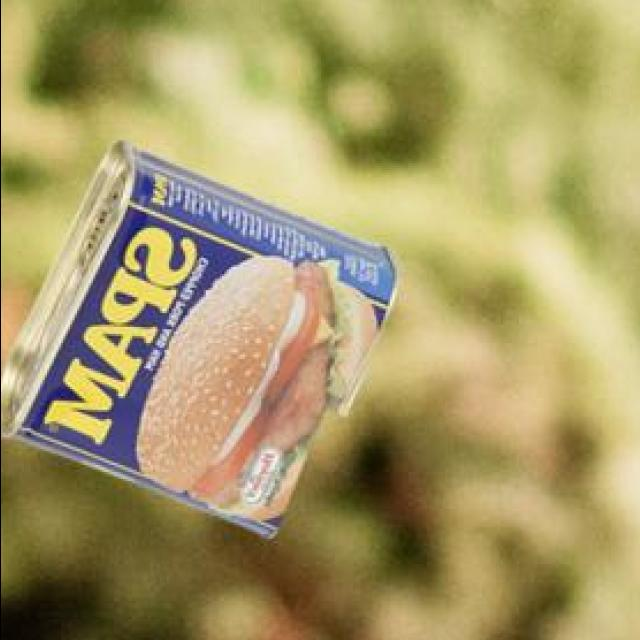logam: (0, 144, 404, 540)
